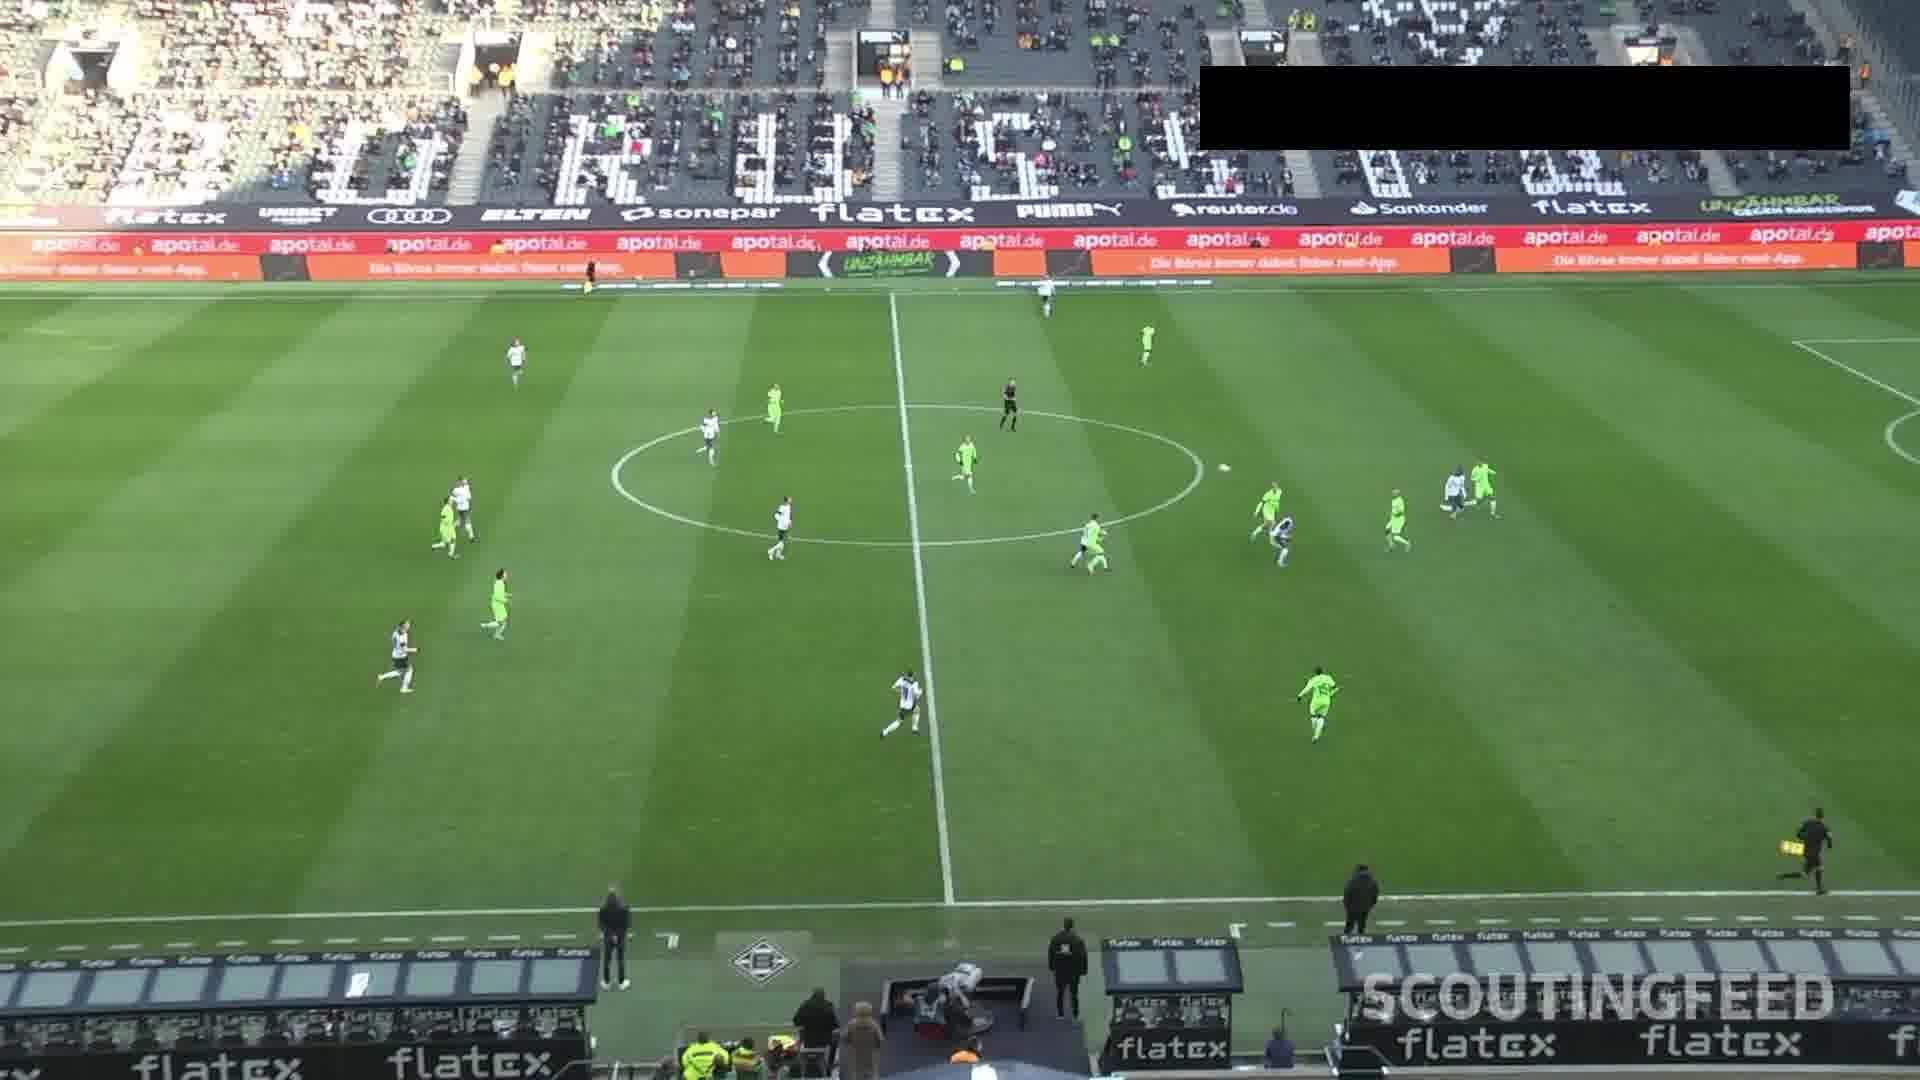football: (1216, 460, 1233, 475)
